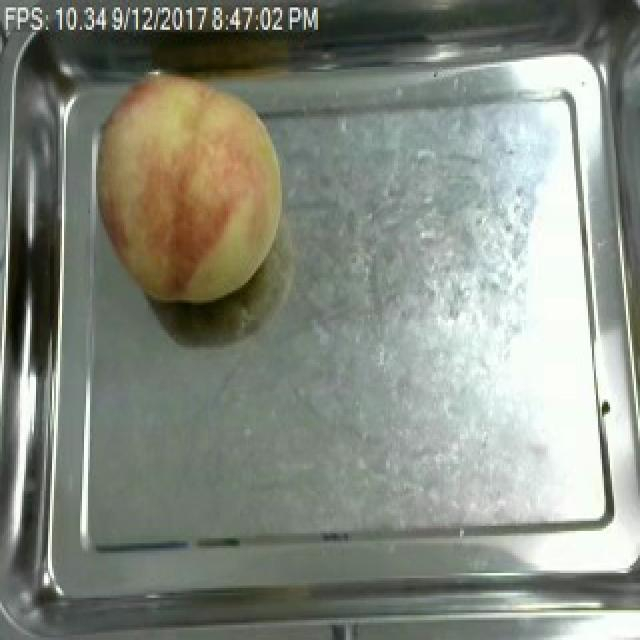Fruit: (86, 62, 294, 313)
